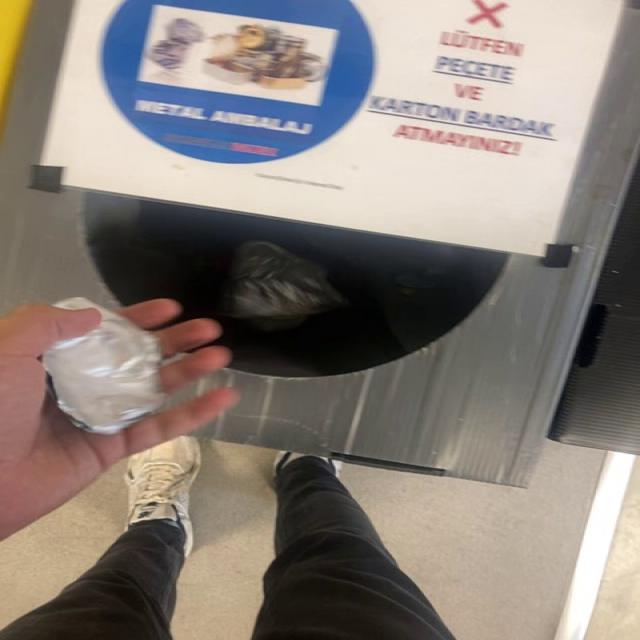metal: (220, 241, 348, 332)
